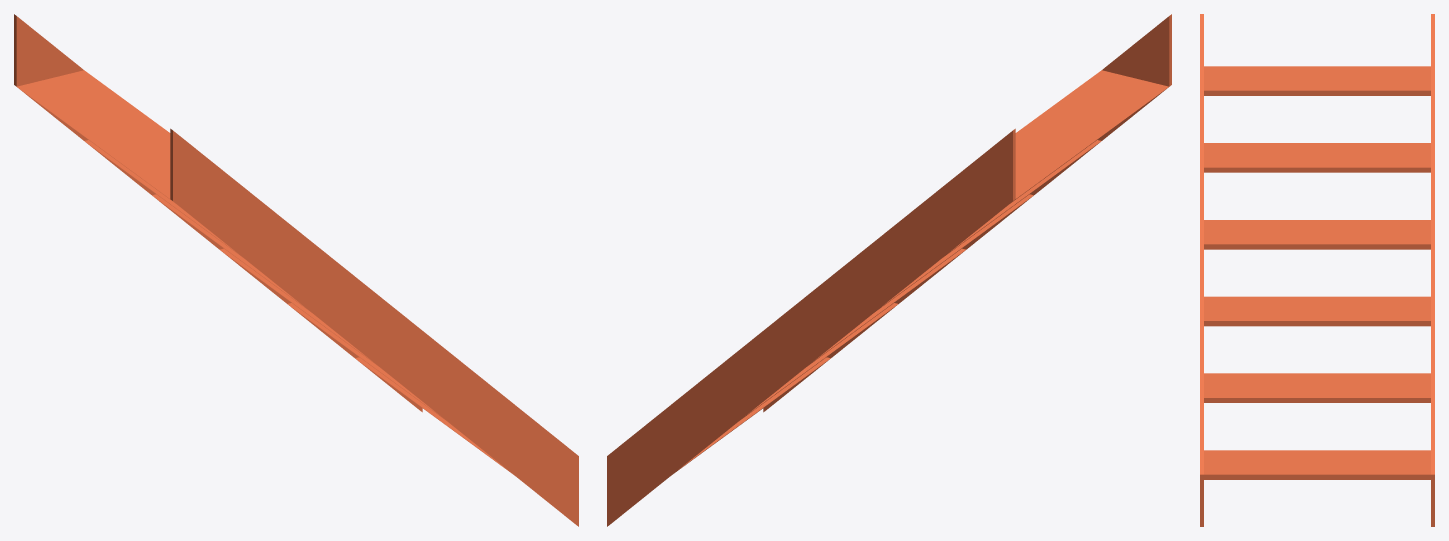
The model's file is Prop_Industrial_Platform_Walkway_Narrow_Steps_01.FBX.
3 renders of one model, left to right at view 1: azimuth 30°, elevation 25°; view 2: azimuth 150°, elevation 25°; view 3: azimuth 270°, elevation 25°, orthographic. The views are drawn at different scales.
Parts seen in each view (by area): view 1: Prop_Industrial_Platform_Walkway_Narrow_Steps_01; view 2: Prop_Industrial_Platform_Walkway_Narrow_Steps_01; view 3: Prop_Industrial_Platform_Walkway_Narrow_Steps_01.
Part boxes in pixels (bbox=[...]): Prop_Industrial_Platform_Walkway_Narrow_Steps_01: bbox=[14, 14, 578, 526]; Prop_Industrial_Platform_Walkway_Narrow_Steps_01: bbox=[607, 14, 1171, 526]; Prop_Industrial_Platform_Walkway_Narrow_Steps_01: bbox=[1200, 14, 1434, 526].
Bounding box in the file's own units: 3600 × 4200 × 2440.
